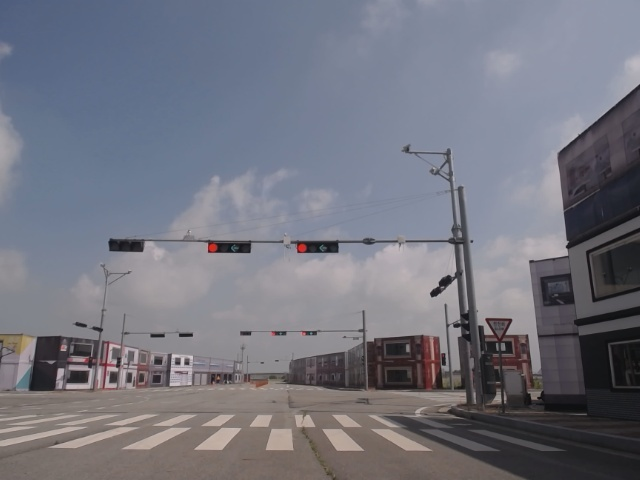left_green_4: (208, 241, 251, 254), (297, 241, 339, 253)
